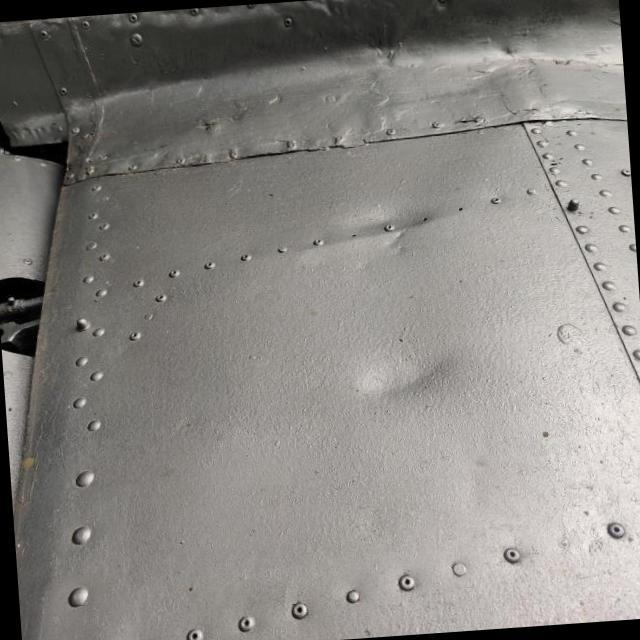Dent: (335, 310, 473, 438), (312, 165, 442, 284)
